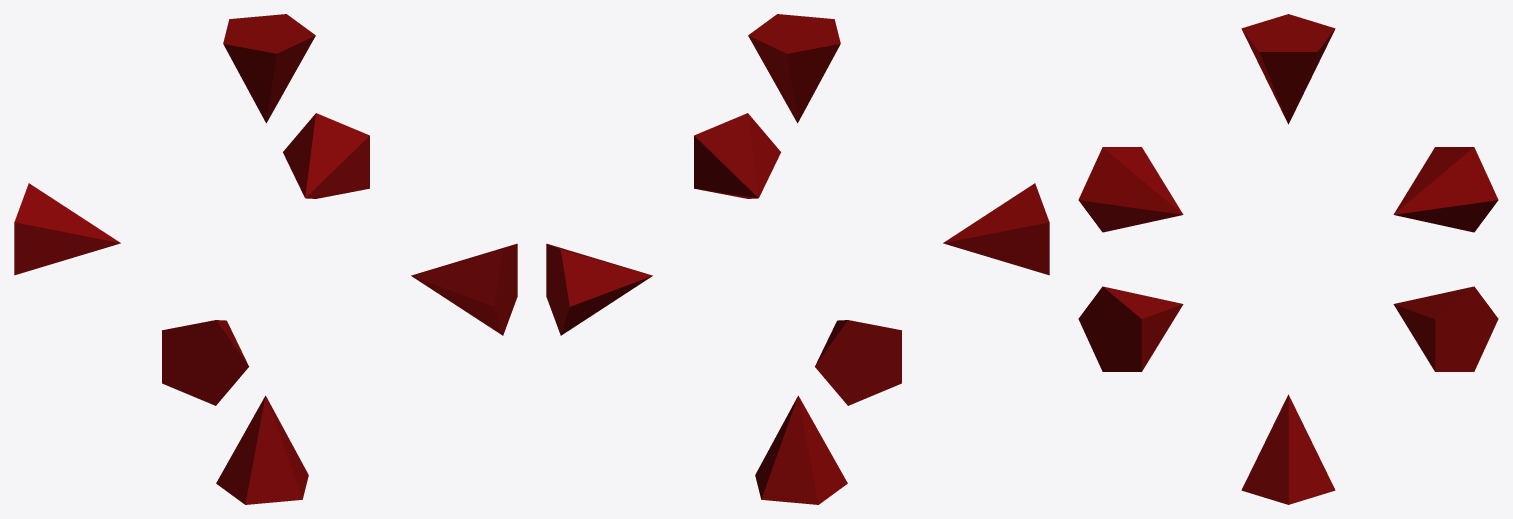
File: rockOnIcon.obj
3 renders of one model, left to right at view 1: azimuth 30°, elevation 25°; view 2: azimuth 150°, elevation 25°; view 3: azimuth 270°, elevation 25°, orthographic.
Bounding box in the file's own units: 8.23 × 10 × 8.47.
